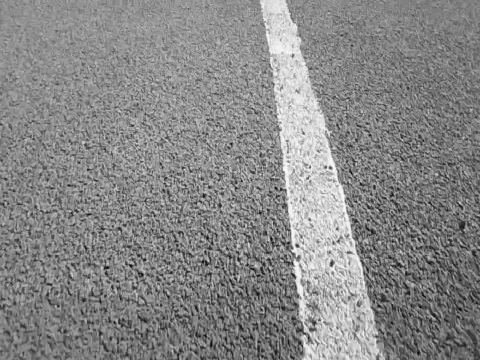Lines: (258, 0, 384, 360)
